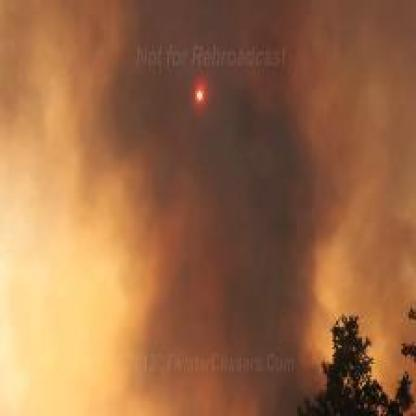smoke: (9, 2, 364, 397)
